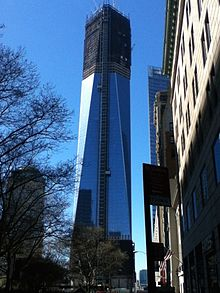wtc: (73, 3, 136, 278)
